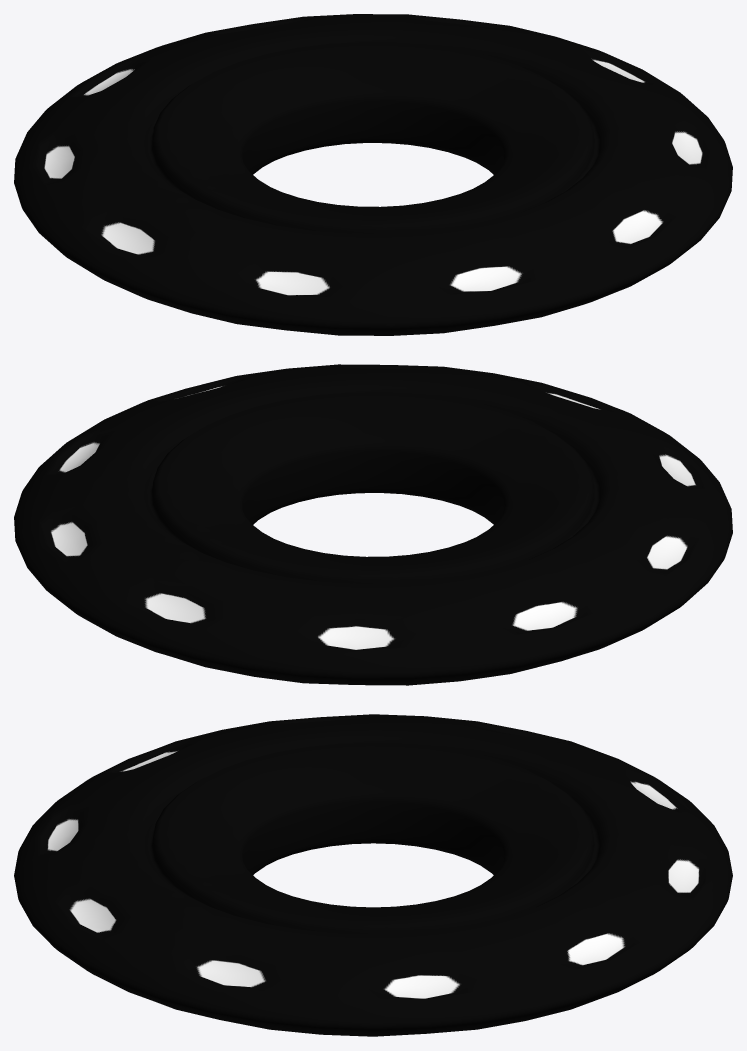
Rendered from Disc.fbx.
The picture shows the model from 3 angles, top to bottom: view 1: azimuth 30°, elevation 25°; view 2: azimuth 150°, elevation 25°; view 3: azimuth 270°, elevation 25°; orthographic projection.
Parts seen in each view (by area): view 1: target; view 2: target; view 3: target.
Part boxes in pixels (x1=…): target: x1=14, y1=14, x2=732, y2=335; target: x1=14, y1=364, x2=732, y2=685; target: x1=14, y1=714, x2=732, y2=1036.
Bounding box in the file's own units: 4 × 0.5215 × 4.
Materials: 1 (1 with a texture image).
